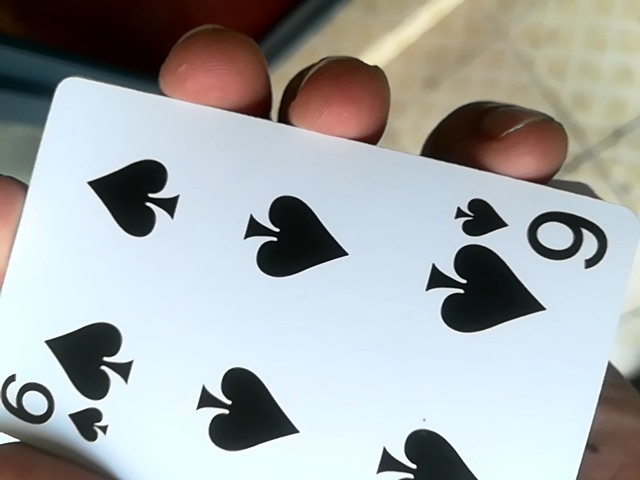ht 6: (4, 70, 640, 480)
